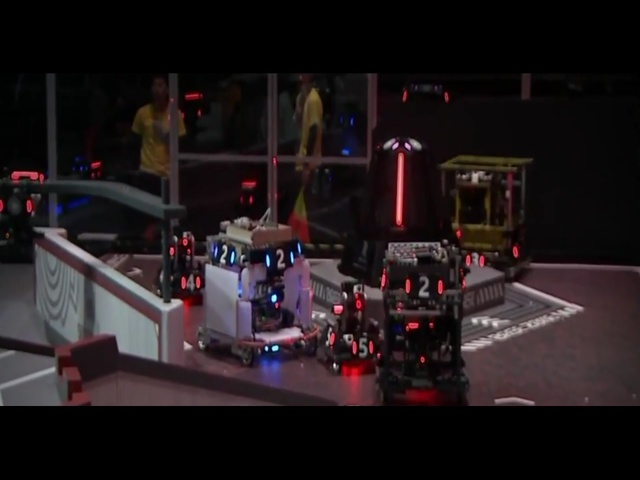bluePlate: (242, 224, 287, 256), (184, 360, 212, 389), (382, 381, 403, 413), (104, 272, 130, 297), (312, 214, 331, 243), (137, 356, 154, 385), (151, 265, 165, 285)
redPlate: (261, 328, 314, 361), (451, 183, 465, 208)
